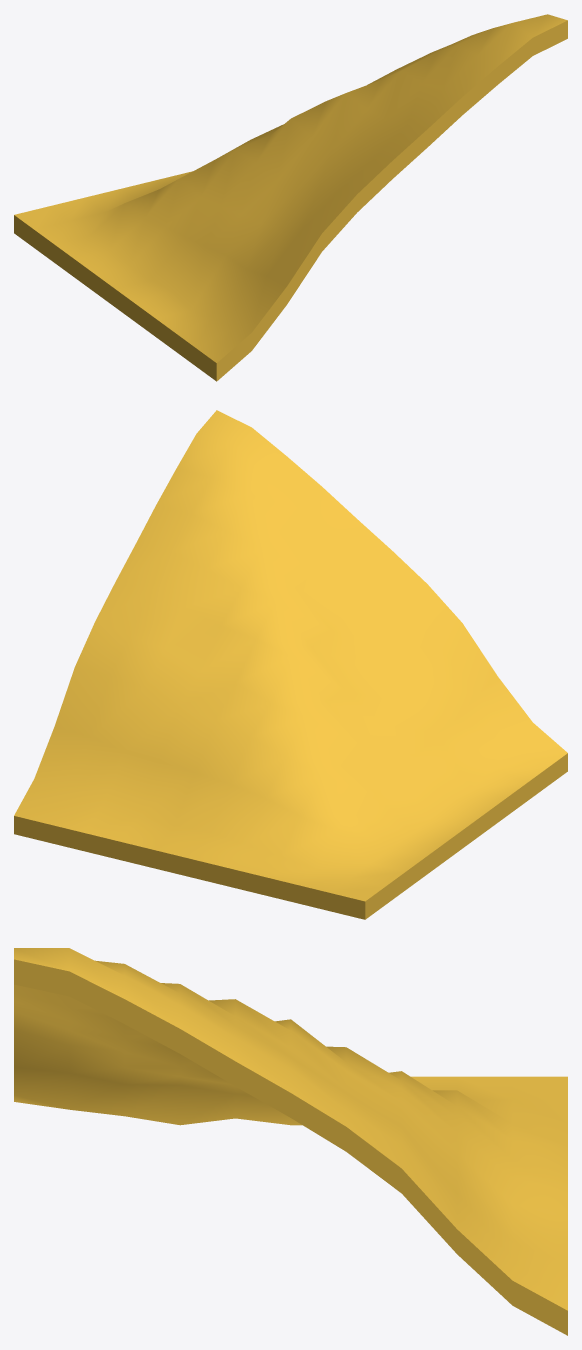
File: Steil - Mitte - Ecke b - b.fbx
3 renders of one model, top to bottom at view 1: azimuth 30°, elevation 25°; view 2: azimuth 150°, elevation 25°; view 3: azimuth 270°, elevation 25°, orthographic. The views are drawn at different scales.
Parts seen in each view (by area): view 1: Steil - Mitte - Ecke b - b; view 2: Steil - Mitte - Ecke b - b; view 3: Steil - Mitte - Ecke b - b.
Boxes of the visible parts, x1,y1,x2,y2 form: Steil - Mitte - Ecke b - b: [14, 14, 567, 381]; Steil - Mitte - Ecke b - b: [14, 410, 567, 919]; Steil - Mitte - Ecke b - b: [14, 948, 567, 1335].
Size of the model in its own units: 394 by 295 by 394.
